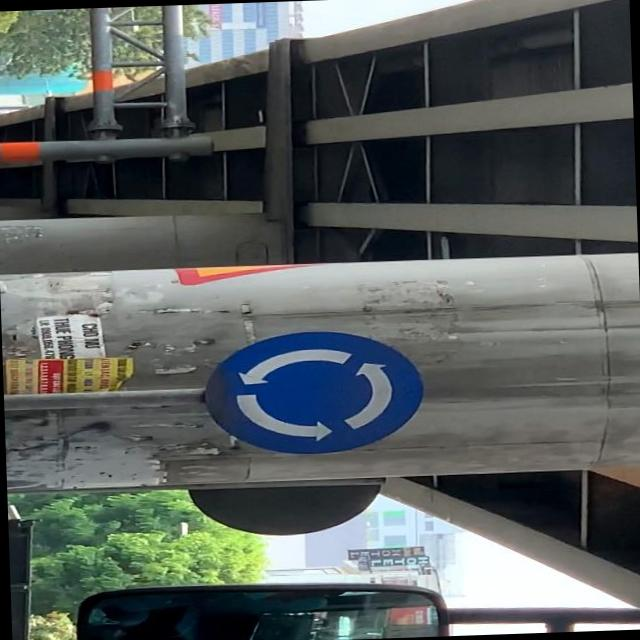R-303: (200, 331, 426, 458)
